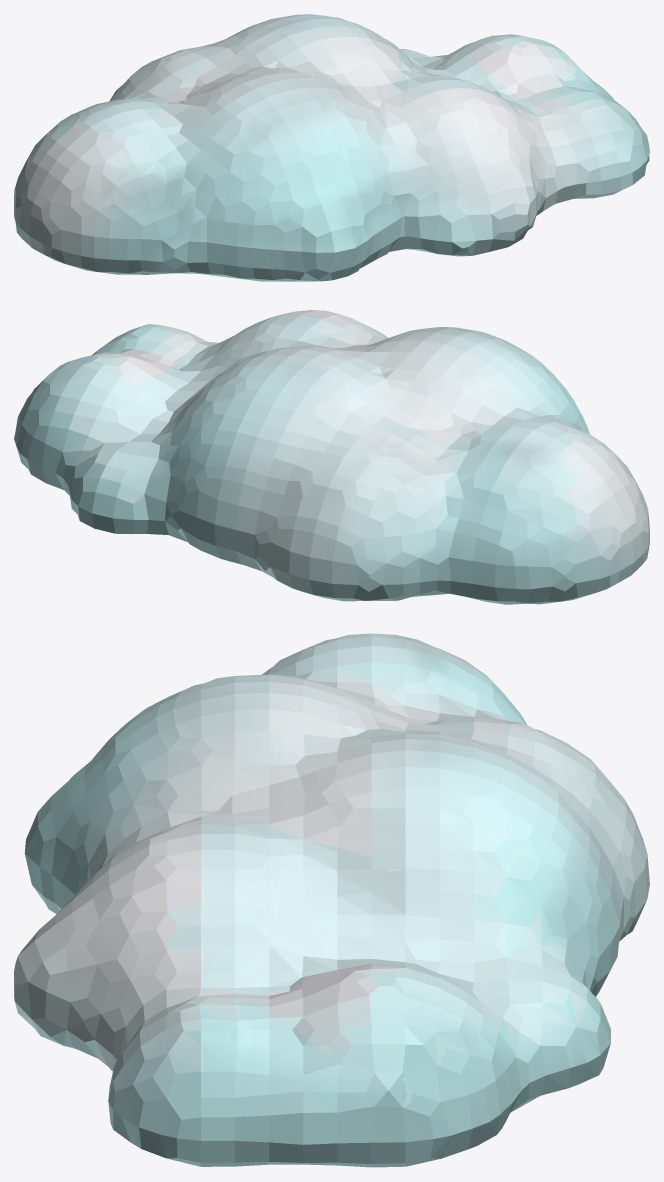
The model's file is cloud.fbx.
3 views of the same model, one above another, from view 1: azimuth 30°, elevation 25°; view 2: azimuth 150°, elevation 25°; view 3: azimuth 270°, elevation 25° (orthographic). The views are drawn at different scales.
Parts seen in each view (by area): view 1: Sphere.014; view 2: Sphere.014; view 3: Sphere.014.
Part boxes in pixels (x1=…): Sphere.014: x1=14, y1=14, x2=649, y2=281; Sphere.014: x1=14, y1=310, x2=649, y2=604; Sphere.014: x1=14, y1=633, x2=649, y2=1167.
Bounding box in the file's own units: 548 × 147 × 354.
Materials: 1 (1 with a texture image).
